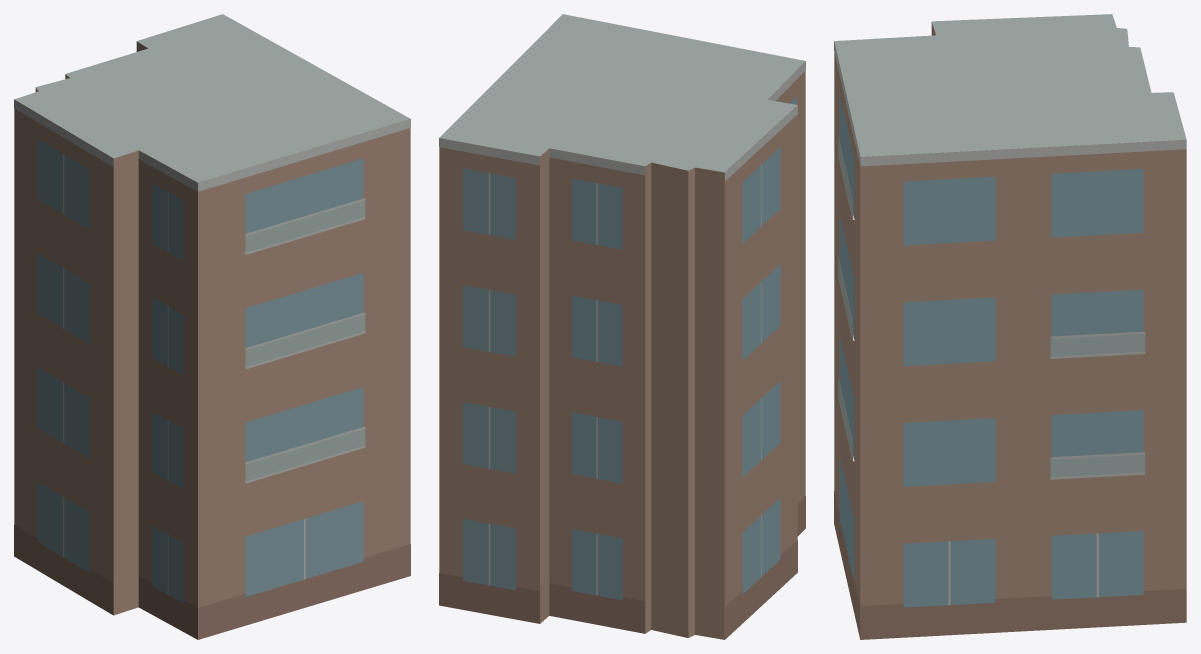
Rendered from survey-upis-33037466.glb.
3 renders of one model, left to right at view 1: azimuth 30°, elevation 25°; view 2: azimuth 150°, elevation 25°; view 3: azimuth 270°, elevation 25°, orthographic. The views are drawn at different scales.
Parts seen in each view (by area): view 1: survey-upis-33037466.tmp; view 2: survey-upis-33037466.tmp; view 3: survey-upis-33037466.tmp.
Boxes of the visible parts, left/top/right/bottom form: survey-upis-33037466.tmp: left=14, top=14, right=410, bottom=639; survey-upis-33037466.tmp: left=439, top=14, right=805, bottom=639; survey-upis-33037466.tmp: left=834, top=14, right=1186, bottom=639.
Bounding box in the file's own units: 7.95 × 12.5 × 8.28.
